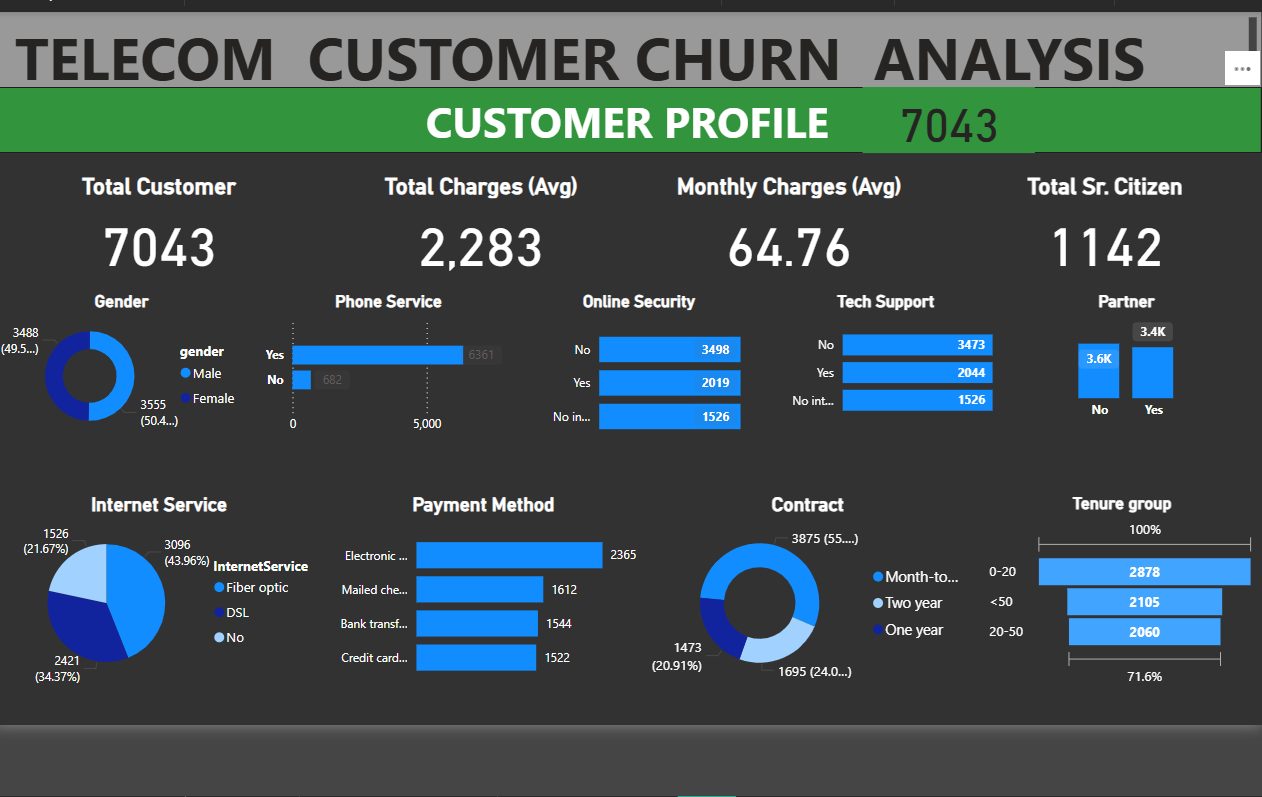

The page's visual inventory and layout, read from the dashboard file:
{"tool":"powerbi","page":{"name":"Customer Profile","canvas":[1280,720],"ordinal":0},"visuals":[{"type":"textbox","box":[0,0,1279.5,75.7],"z":0},{"type":"textbox","box":[0,75.8,1278.8,66.7],"z":1000},{"type":"card","fields":{"Values":["Telco_churn.total_count"]},"box":[876.7,75.7,174.1,66.6],"z":2000},{"type":"donutChart","title":"Gender","fields":{"Category":["Telco_churn.gender"],"Y":["CountNonNull(Telco_churn.gender)"]},"box":[0,281.8,257.6,151.5],"z":3000},{"type":"funnel","title":"Tenure group","fields":{"Category":["Telco_churn.tenure_bin"],"Y":["CountNonNull(Telco_churn.tenure_bin)"]},"box":[1000,486.4,278.8,198.5],"z":4000},{"type":"card","title":"Total Sr. Citizen","fields":{"Values":["Sum(Telco_churn.SeniorCitizen)"]},"box":[964.1,162.5,314.1,110.9],"z":5000},{"type":"clusteredColumnChart","title":"Partner","fields":{"Category":["Telco_churn.Partner"],"Y":["CountNonNull(Telco_churn.Partner)"]},"box":[1040.9,281.8,206.1,137.9],"z":6000},{"type":"clusteredBarChart","title":" Phone Service ","fields":{"Category":["Telco_churn.PhoneService"],"Y":["CountNonNull(Telco_churn.PhoneService)"]},"box":[268.2,281.8,260.6,151.5],"z":7000},{"type":"pieChart","title":"      Internet Service ","fields":{"Y":["CountNonNull(Telco_churn.InternetService)"],"Category":["Telco_churn.InternetService"]},"box":[0,486.4,333.3,198.5],"z":8000},{"type":"card","title":"Monthly Charges (Avg)","fields":{"Values":["Avg(Telco_churn.MonthlyCharges)"]},"box":[640.6,162.5,323.4,110.9],"z":9000},{"type":"card","title":"Total Charges (Avg)","fields":{"Values":["Avg(Telco_churn.TotalCharges)"]},"box":[343.8,162.5,295.3,110.9],"z":10000},{"type":"clusteredBarChart","title":"Payment Method ","fields":{"Category":["Telco_churn.PaymentMethod"],"Y":["CountNonNull(Telco_churn.PaymentMethod)"]},"box":[332.8,485.9,321.9,198.4],"z":11000},{"type":"donutChart","title":"Contract","fields":{"Category":["Telco_churn.Contract"],"Y":["CountNonNull(Telco_churn.Contract)"]},"box":[654.5,486.4,334.8,198.5],"z":12000},{"type":"card","title":"Total Customer","fields":{"Values":["Telco_churn.total_count"]},"box":[0,162.5,332.8,110.9],"z":13000},{"type":"hundredPercentStackedBarChart","title":"Online Security","fields":{"Category":["Telco_churn.OnlineSecurity"],"Y":["CountNonNull(Telco_churn.OnlineSecurity)"]},"box":[543.9,281.8,215.2,159.1],"z":14000},{"type":"hundredPercentStackedBarChart","title":"Tech Support","fields":{"Category":["Telco_churn.TechSupport"],"Y":["CountNonNull(Telco_churn.TechSupport)"]},"box":[787.9,281.8,225.8,137.9],"z":15000}]}

Visuals, with their boxes on the page's 1280x720 design canvas (x1, y1, x2, y2). These are canvas units, not pixel positions in the 1262x797 screenshot, which may show the page scaled, cropped or inside an application window:
textbox: 0,0,1280,76
textbox: 0,76,1279,142
card - Telco_churn.total_count: 877,76,1051,142
"Gender" donutChart: 0,282,258,433
"Tenure group" funnel: 1000,486,1279,685
"Total Sr. Citizen" card: 964,162,1278,273
"Partner" clusteredColumnChart: 1041,282,1247,420
" Phone Service " clusteredBarChart: 268,282,529,433
"      Internet Service " pieChart: 0,486,333,685
"Monthly Charges (Avg)" card: 641,162,964,273
"Total Charges (Avg)" card: 344,162,639,273
"Payment Method " clusteredBarChart: 333,486,655,684
"Contract" donutChart: 654,486,989,685
"Total Customer" card: 0,162,333,273
"Online Security" hundredPercentStackedBarChart: 544,282,759,441
"Tech Support" hundredPercentStackedBarChart: 788,282,1014,420
